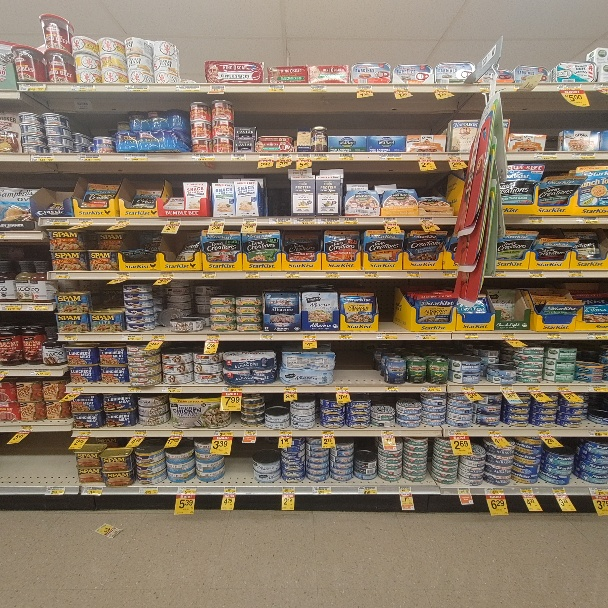All PRICE TAGS: (572, 152, 597, 160), (586, 385, 608, 393), (294, 217, 316, 225), (577, 216, 599, 224), (190, 154, 214, 161), (558, 84, 582, 91), (46, 485, 64, 494), (534, 152, 557, 159), (48, 272, 70, 279), (358, 486, 377, 494), (22, 84, 47, 90), (71, 85, 96, 91), (125, 85, 150, 91), (587, 429, 608, 436), (587, 332, 608, 339), (270, 217, 291, 224), (589, 487, 607, 495), (377, 333, 397, 340), (83, 487, 103, 494), (27, 304, 47, 311), (448, 429, 468, 436), (30, 369, 50, 376), (381, 153, 401, 160), (314, 486, 331, 494), (319, 217, 338, 224), (483, 488, 505, 494), (178, 85, 200, 91), (546, 332, 562, 340), (139, 487, 157, 494), (178, 487, 196, 494), (79, 154, 100, 160), (223, 385, 243, 391), (551, 487, 566, 495), (127, 154, 147, 160), (62, 334, 79, 341), (5, 303, 22, 310), (341, 217, 358, 224), (31, 155, 54, 160), (417, 333, 436, 339), (398, 486, 412, 494), (258, 154, 274, 161), (296, 153, 312, 160), (418, 153, 434, 160), (124, 334, 142, 340), (164, 386, 182, 392), (52, 218, 70, 224), (151, 333, 166, 340), (380, 429, 395, 436), (222, 487, 237, 494), (499, 385, 514, 392), (568, 270, 583, 277), (312, 85, 327, 92), (339, 153, 354, 160), (448, 153, 463, 160), (166, 218, 181, 225), (382, 217, 397, 224), (422, 385, 439, 391), (215, 430, 232, 436), (209, 85, 226, 91), (268, 85, 285, 91), (356, 85, 373, 91), (406, 271, 420, 278), (206, 333, 220, 340), (260, 333, 274, 340), (244, 429, 258, 436), (281, 487, 295, 494), (519, 488, 533, 495), (556, 384, 570, 391), (385, 385, 399, 392), (464, 333, 478, 340), (243, 218, 257, 225), (75, 429, 91, 435), (529, 271, 545, 277), (394, 85, 410, 91), (435, 85, 451, 91), (479, 84, 491, 92), (76, 218, 92, 224), (115, 218, 131, 224), (115, 272, 131, 278), (133, 429, 146, 436), (322, 429, 335, 436), (526, 385, 539, 392), (461, 385, 474, 392), (502, 333, 515, 340), (201, 272, 216, 278), (244, 272, 259, 278), (324, 272, 339, 278), (363, 272, 378, 278), (232, 154, 247, 160), (210, 218, 225, 224), (285, 272, 299, 278), (302, 333, 316, 339), (338, 333, 352, 339), (335, 385, 349, 391), (279, 430, 293, 436), (19, 425, 33, 431), (457, 488, 471, 494), (538, 429, 550, 436), (529, 217, 543, 223), (313, 154, 327, 160), (277, 154, 291, 160), (159, 272, 173, 278), (170, 430, 183, 436), (488, 429, 501, 435), (128, 387, 141, 393), (420, 217, 433, 223), (72, 386, 83, 393), (444, 272, 456, 278), (493, 271, 505, 277), (284, 386, 298, 391)
